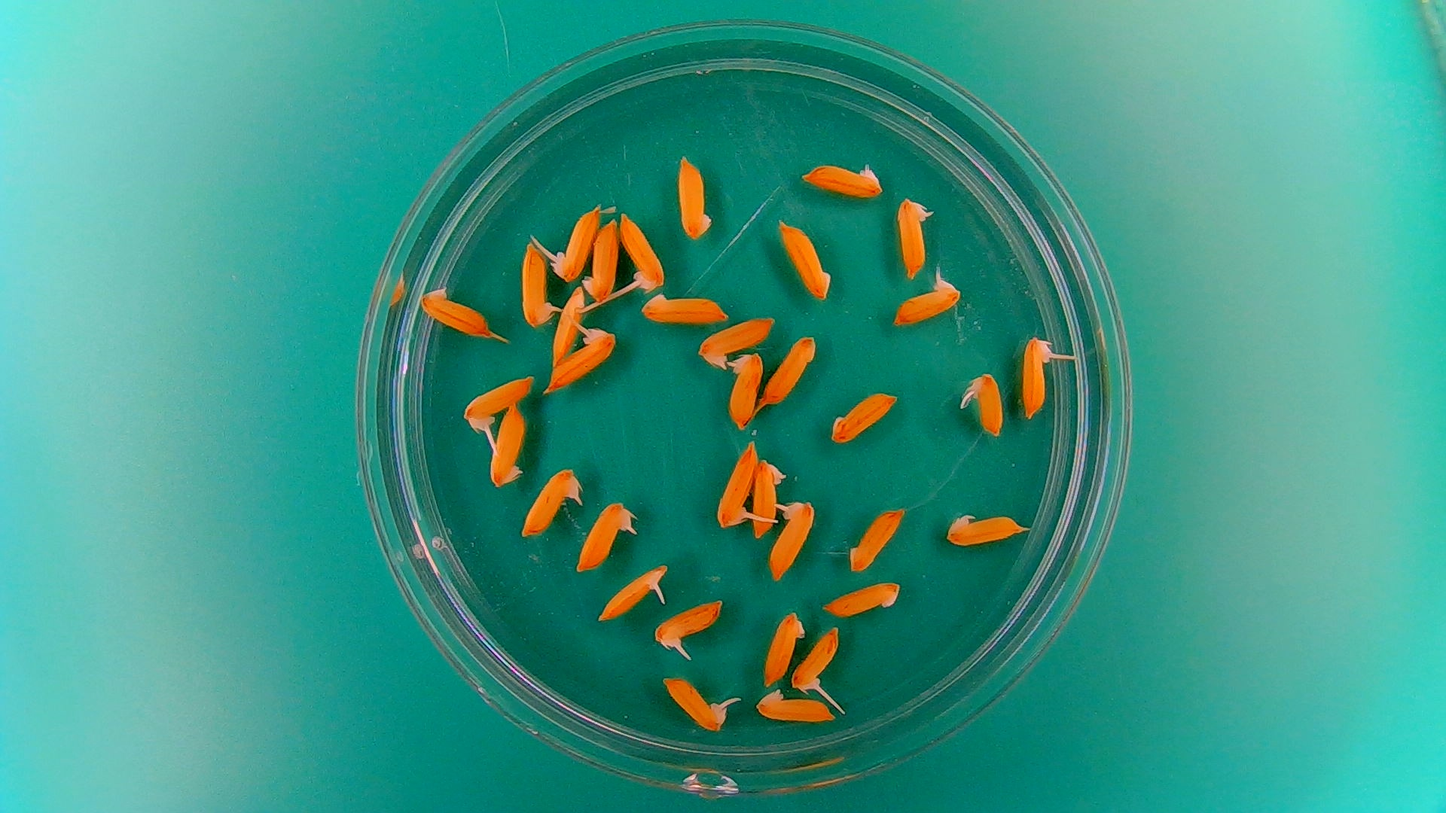no: (775, 216, 834, 301), (416, 279, 498, 340), (845, 501, 908, 576), (695, 314, 777, 368), (828, 388, 901, 448), (762, 332, 819, 406), (798, 156, 886, 200), (676, 152, 717, 243), (761, 607, 807, 687), (488, 400, 528, 491), (819, 577, 902, 619), (550, 283, 590, 368), (581, 216, 620, 302), (753, 687, 837, 725), (639, 291, 731, 324), (751, 458, 784, 540)
yes: (544, 327, 616, 394), (712, 437, 758, 530), (599, 562, 668, 623), (521, 466, 580, 536), (464, 373, 534, 429), (576, 500, 631, 571), (620, 210, 667, 292), (520, 244, 563, 332), (770, 497, 816, 579), (654, 597, 725, 650), (892, 195, 935, 281), (890, 279, 962, 327), (725, 349, 766, 431), (944, 508, 1027, 547), (667, 677, 728, 730), (792, 628, 843, 690), (1020, 332, 1056, 419), (557, 208, 596, 282), (967, 370, 1008, 437)
